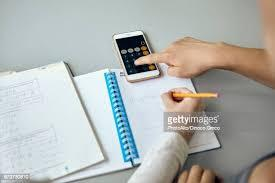Calculator: (119, 39, 159, 76)
